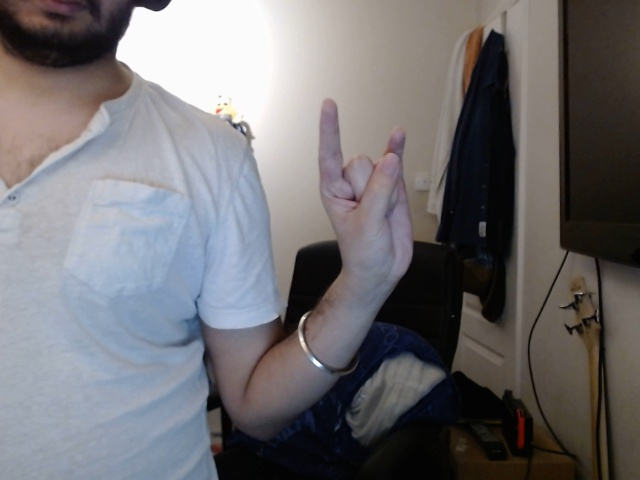Rock on: (300, 95, 431, 304)
